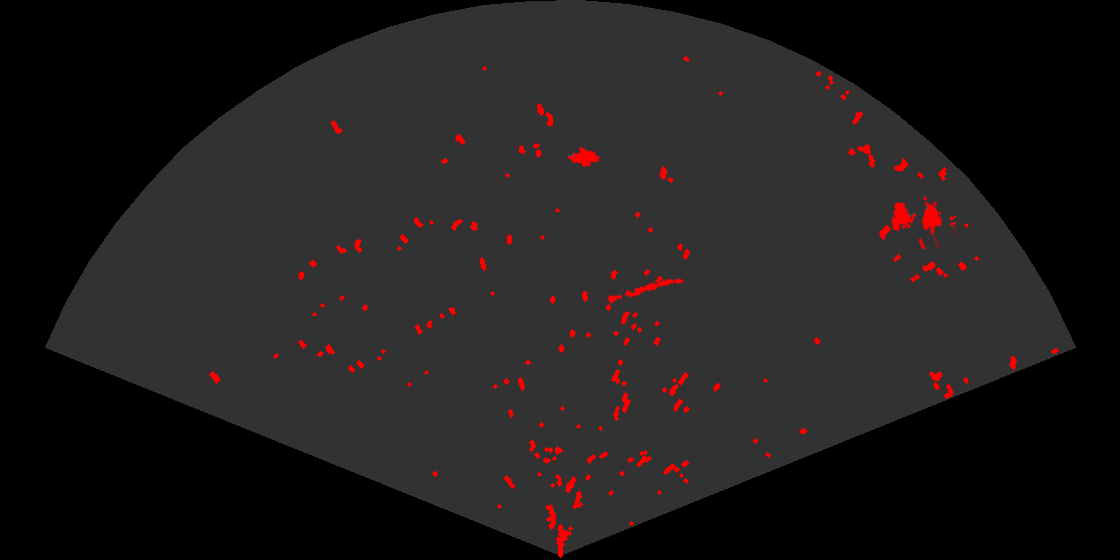AUV: (566, 145, 602, 169)
cage: (890, 194, 956, 249)
chain: (602, 277, 686, 305)
